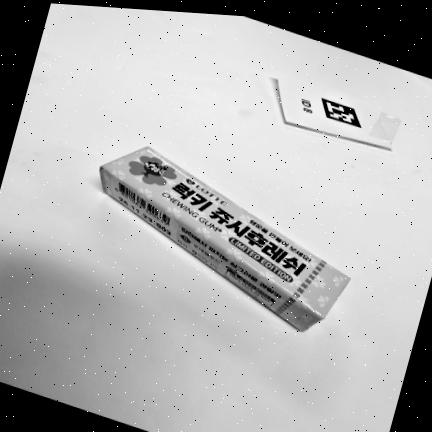gum_yellow: (99, 147, 349, 331)
